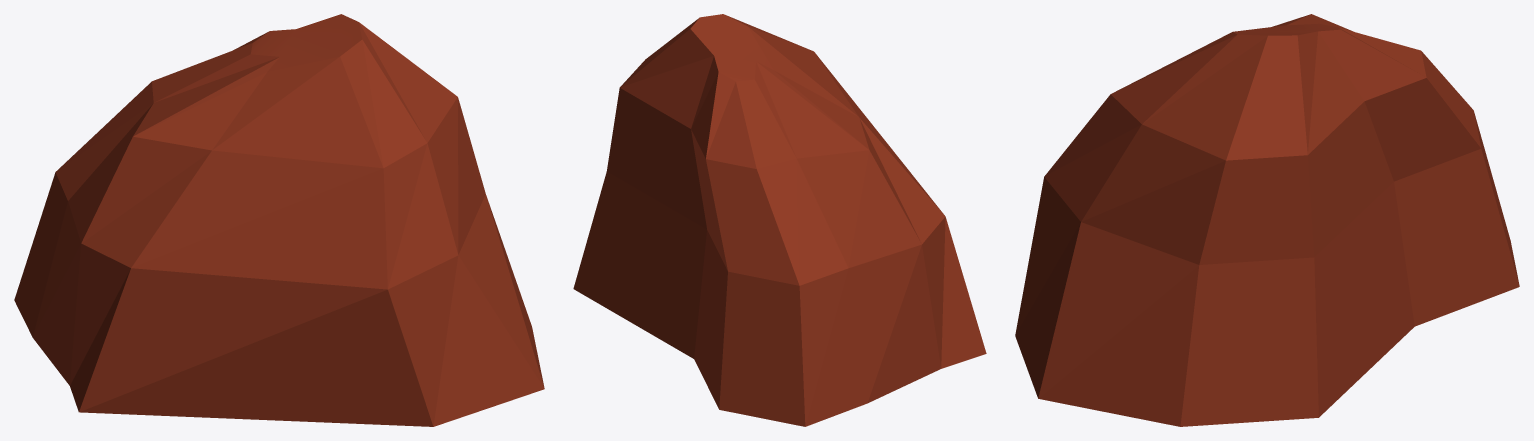
The model's file is mała góra3.FBX.
The picture shows the model from 3 angles, left to right: view 1: azimuth 30°, elevation 25°; view 2: azimuth 150°, elevation 25°; view 3: azimuth 270°, elevation 25°; orthographic projection. The views are drawn at different scales.
Parts seen in each view (by area): view 1: Line001; view 2: Line001; view 3: Line001.
Part boxes in pixels (x1,y1,x2,y2): Line001: [14, 14, 544, 426]; Line001: [573, 14, 986, 426]; Line001: [1015, 14, 1519, 426].
Bounding box in the file's own units: 299 × 205 × 289.
